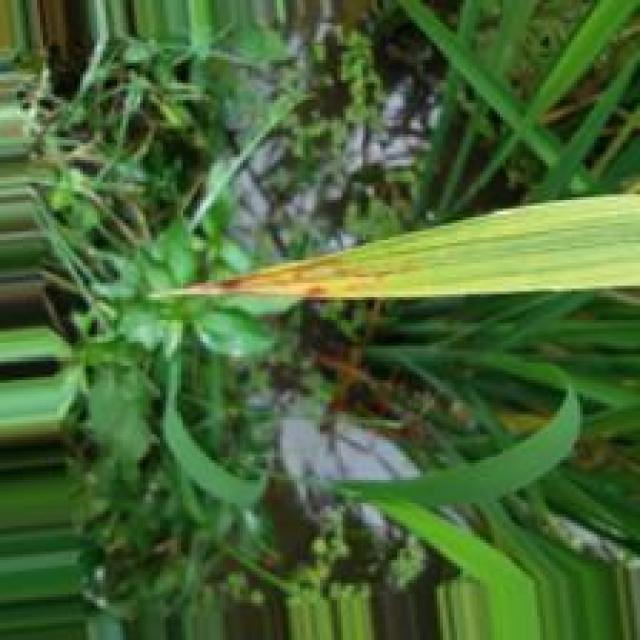Narrow_Brown_Leaf_Spot: (169, 253, 389, 299)
